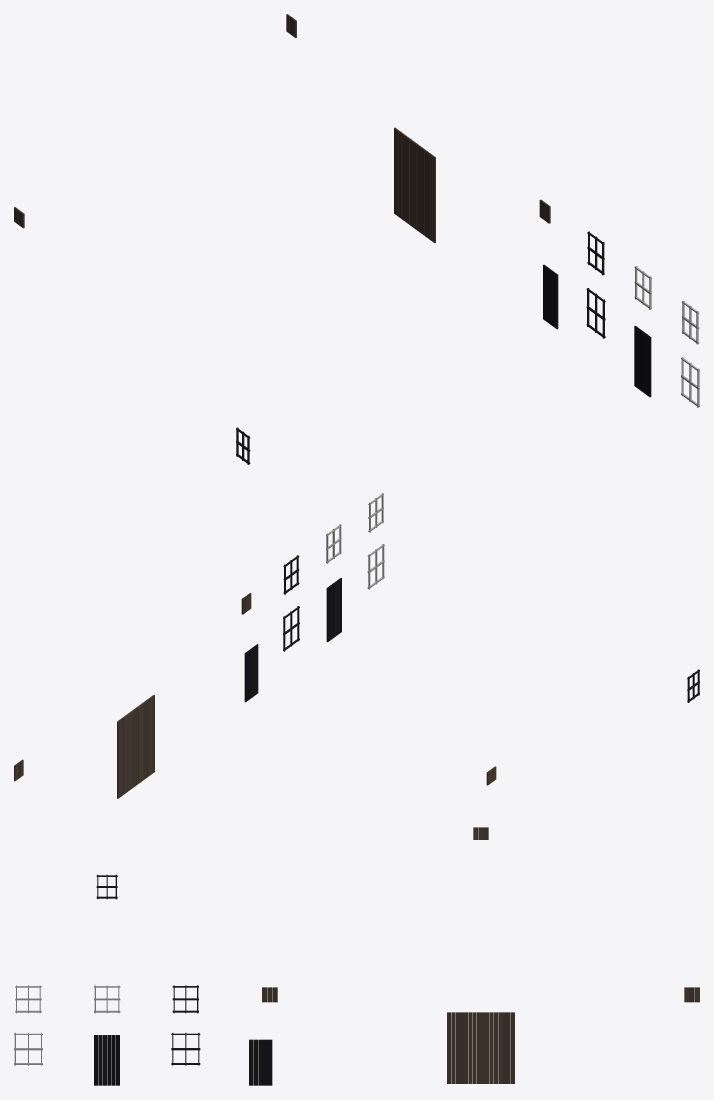
File: SM_Bld_029_Wood.glb
3 views of the same model, one above another, from view 1: azimuth 30°, elevation 25°; view 2: azimuth 150°, elevation 25°; view 3: azimuth 270°, elevation 25° (orthographic). The views are drawn at different scales.
Visible parts, largest first — view 1: SM_Bld_029_Wood; view 2: SM_Bld_029_Wood; view 3: SM_Bld_029_Wood.
Part boxes in pixels (x1,y1,x2,y2): SM_Bld_029_Wood: (14, 14, 699, 464); SM_Bld_029_Wood: (14, 493, 699, 798); SM_Bld_029_Wood: (14, 827, 699, 1085).
Size of the model in its own units: 14.74 by 4.2 by 26.15.
